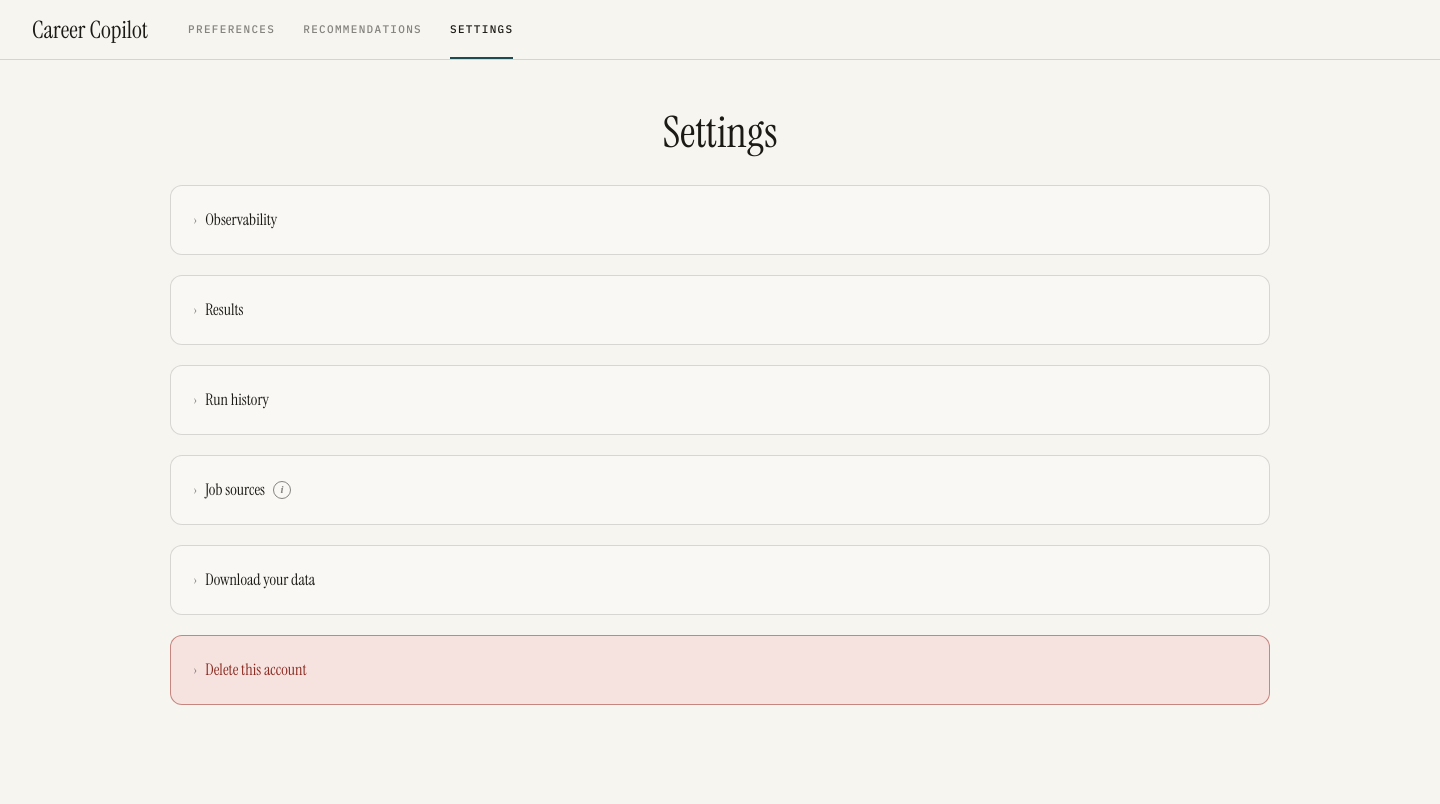
Test: settings page › shows each history row without cost, tagged and worded with its state
Step 1. Click the button "› Run history" → (231,400), box [193,388,269,412]
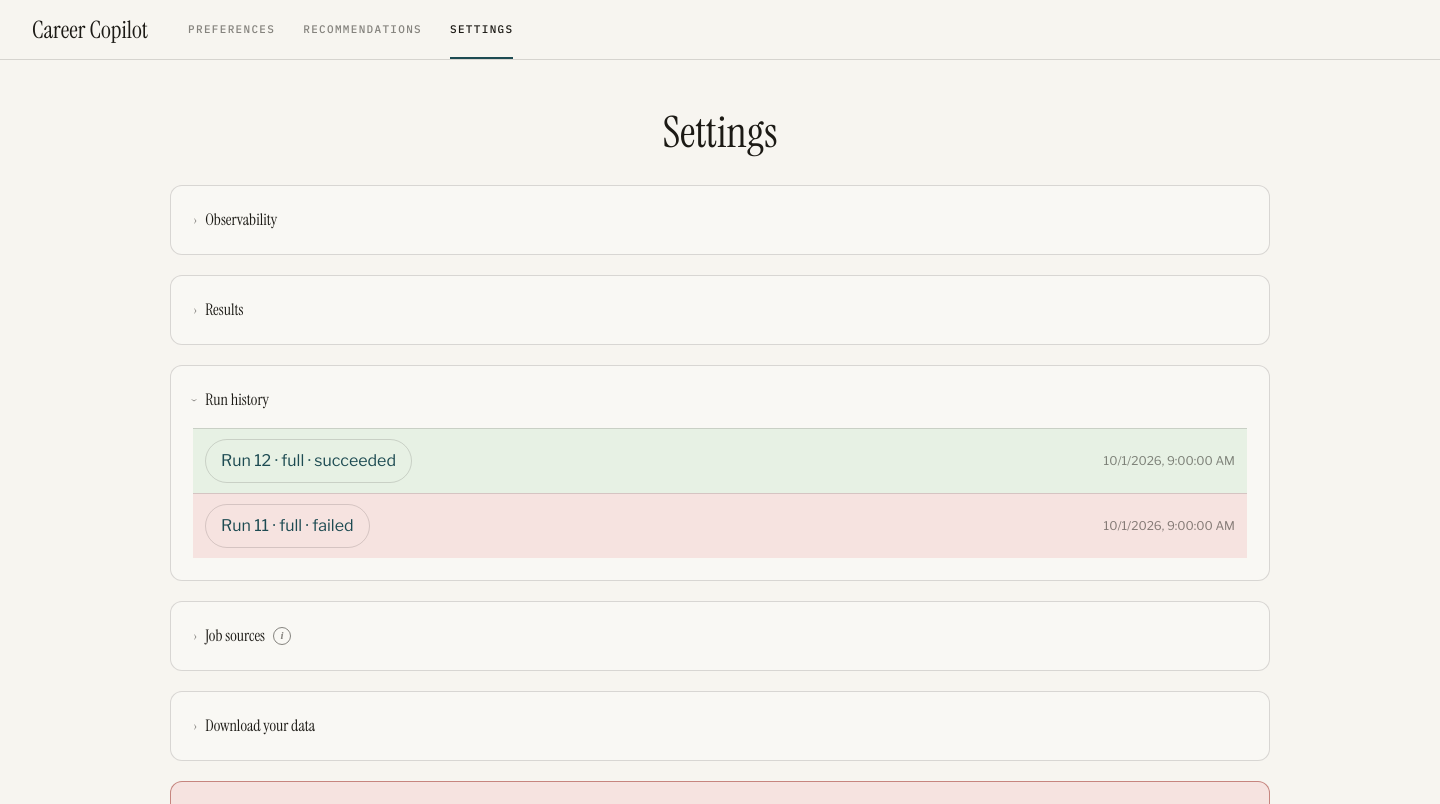
Result: the list item "Run 12 · full · succeeded 10/1/2026, 9:00:00 AM" is shown at [193,428,1247,493]
Result: the list item "Run 11 · full · failed 10/1/2026, 9:00:00 AM" is shown at [193,493,1247,558]
